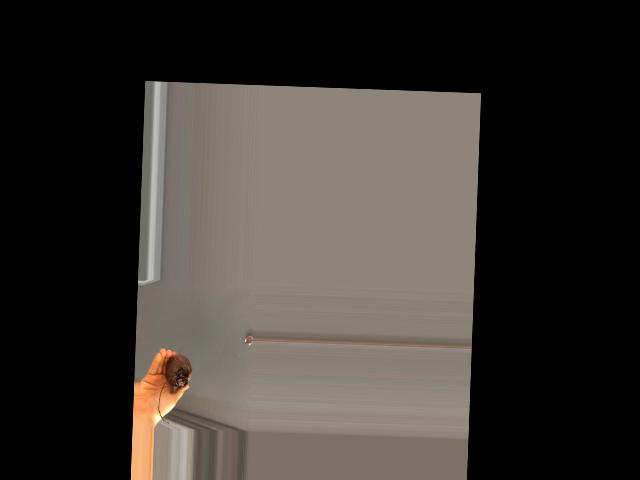beet: (157, 344, 192, 423)
